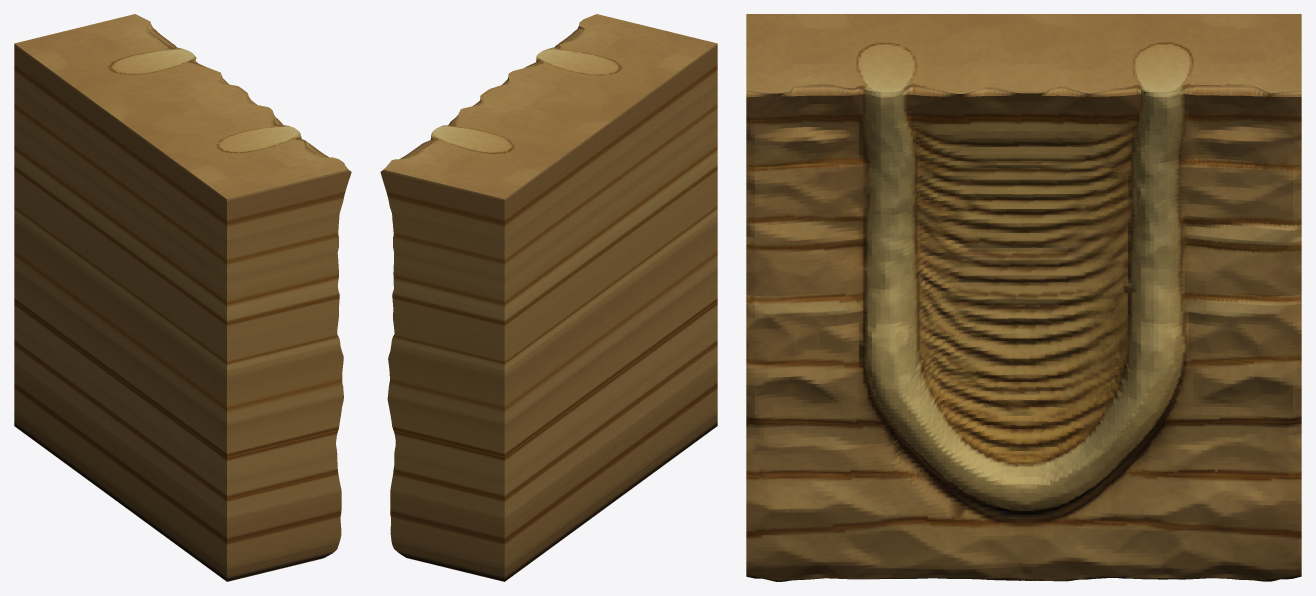
The picture shows the model from 3 angles, left to right: view 1: azimuth 30°, elevation 25°; view 2: azimuth 150°, elevation 25°; view 3: azimuth 270°, elevation 25°; orthographic projection. The views are drawn at different scales.
Visible parts, largest first — view 1: Diplocraterion_source_envelope_reconstruction; view 2: Diplocraterion_source_envelope_reconstruction; view 3: Diplocraterion_source_envelope_reconstruction.
Part boxes in pixels (<box>): Diplocraterion_source_envelope_reconstruction: <box>14,14,351,581</box>; Diplocraterion_source_envelope_reconstruction: <box>380,14,717,581</box>; Diplocraterion_source_envelope_reconstruction: <box>746,14,1301,581</box>.
Bounding box in the file's own units: 0.3327 × 0.964 × 0.972.
3 materials, 3 textured.
